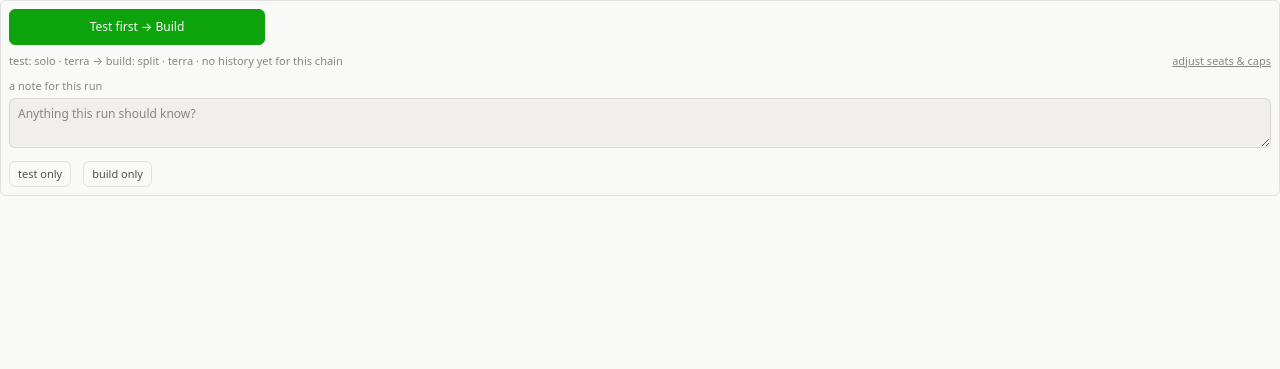
Test: participant modes project the implementer line-up, not every role › labels the TDD block's workers with the implementer entry's global provenance
Click the button with test id "tdd-tune".
click(1222, 61)  # box [1172, 53, 1271, 70]
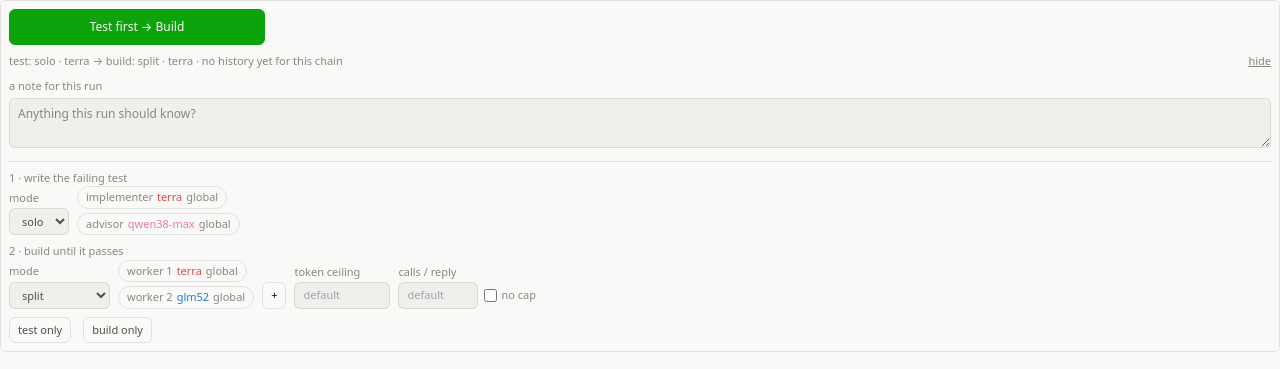
Expected: the button with test id "seat-chip" shows "global", [118, 260, 247, 282]
